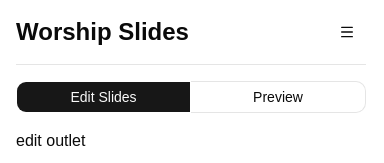
Test case: AppLayout › shows only exports in the menu when nobody is signed in
Click the 1st button.
click(347, 32)  # box [328,16,366,48]
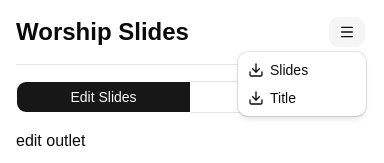
Expected: the menu items read "Slides", "Title", in this order, [248,62,308,78]; [248,90,296,106]
